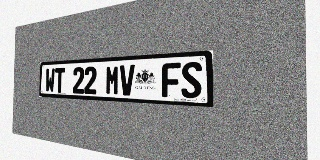2: (84, 66, 97, 94), (73, 67, 84, 94)
F: (162, 62, 181, 98)
M: (105, 65, 119, 95)
S: (181, 61, 202, 99)
T: (55, 68, 65, 93)
V: (120, 64, 135, 96)
W: (45, 68, 55, 93)
